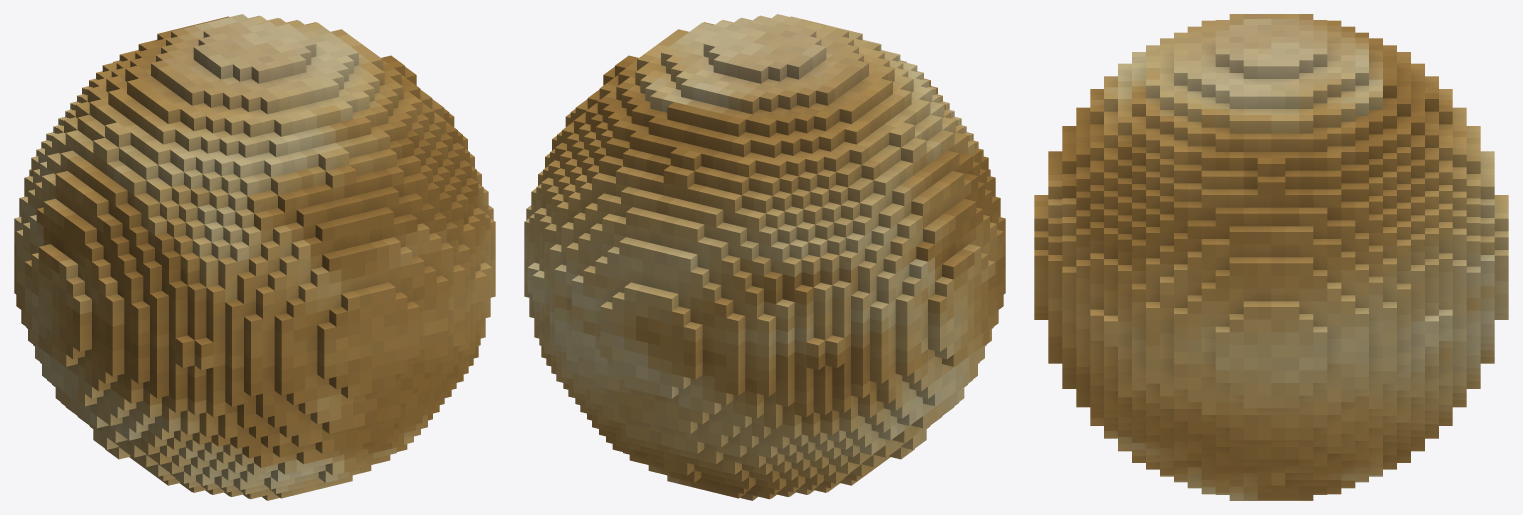
Rendered from venus_lod1.glb.
3 renders of one model, left to right at view 1: azimuth 30°, elevation 25°; view 2: azimuth 150°, elevation 25°; view 3: azimuth 270°, elevation 25°, orthographic.
Visible parts, largest first — view 1: venus_lod1; view 2: venus_lod1; view 3: venus_lod1.
Boxes of the visible parts, box(x1,y1,x2,y2) form: venus_lod1: box(14, 14, 495, 500); venus_lod1: box(524, 14, 1005, 500); venus_lod1: box(1034, 14, 1508, 500).
Bounding box in the file's own units: 2 × 2 × 2.
